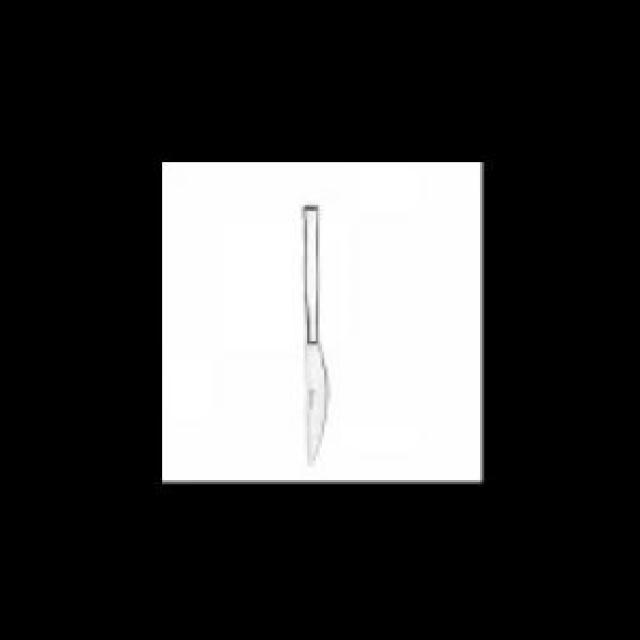knife: (301, 203, 326, 469)
